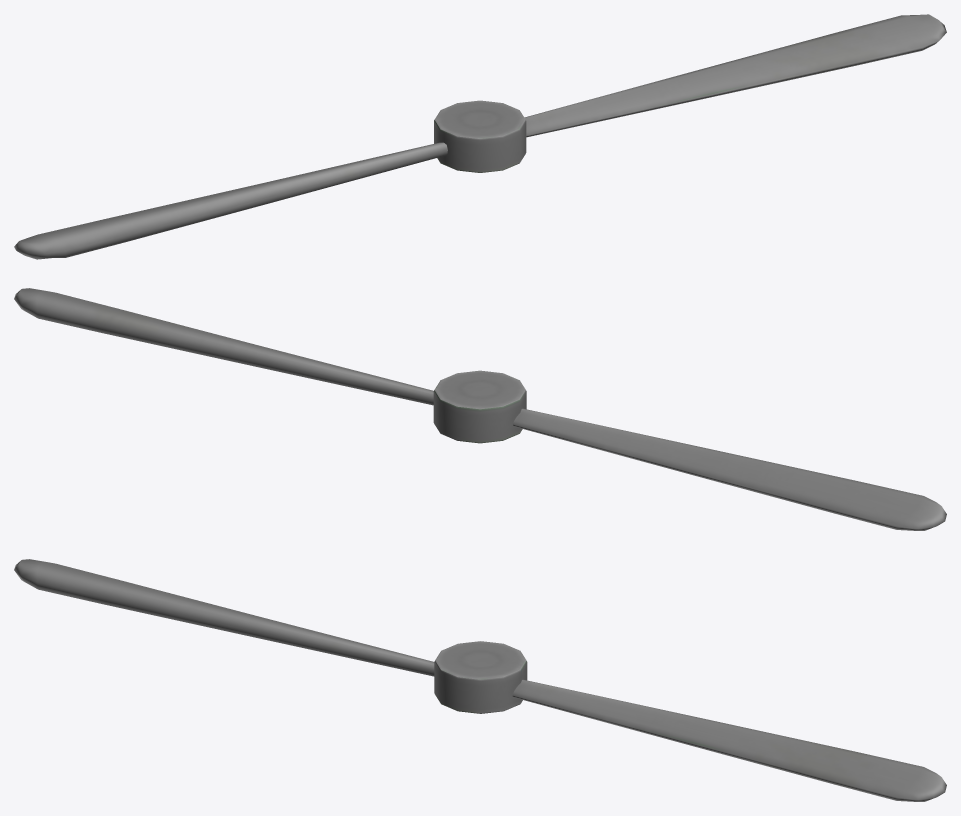
The model's file is Helicoptero_Helice.obj.
The picture shows the model from 3 angles, top to bottom: view 1: azimuth 30°, elevation 25°; view 2: azimuth 150°, elevation 25°; view 3: azimuth 330°, elevation 25°; orthographic projection.
Visible parts, largest first — view 1: Helice; view 2: Helice; view 3: Helice.
Boxes of the visible parts, x1,y1,x2,y2 form: Helice: (14,14,946,259); Helice: (14,288,946,530); Helice: (14,559,946,801).
Size of the model in its own units: 32.92 by 1.19 by 2.84.
Materials: 1 (1 with a texture image).
